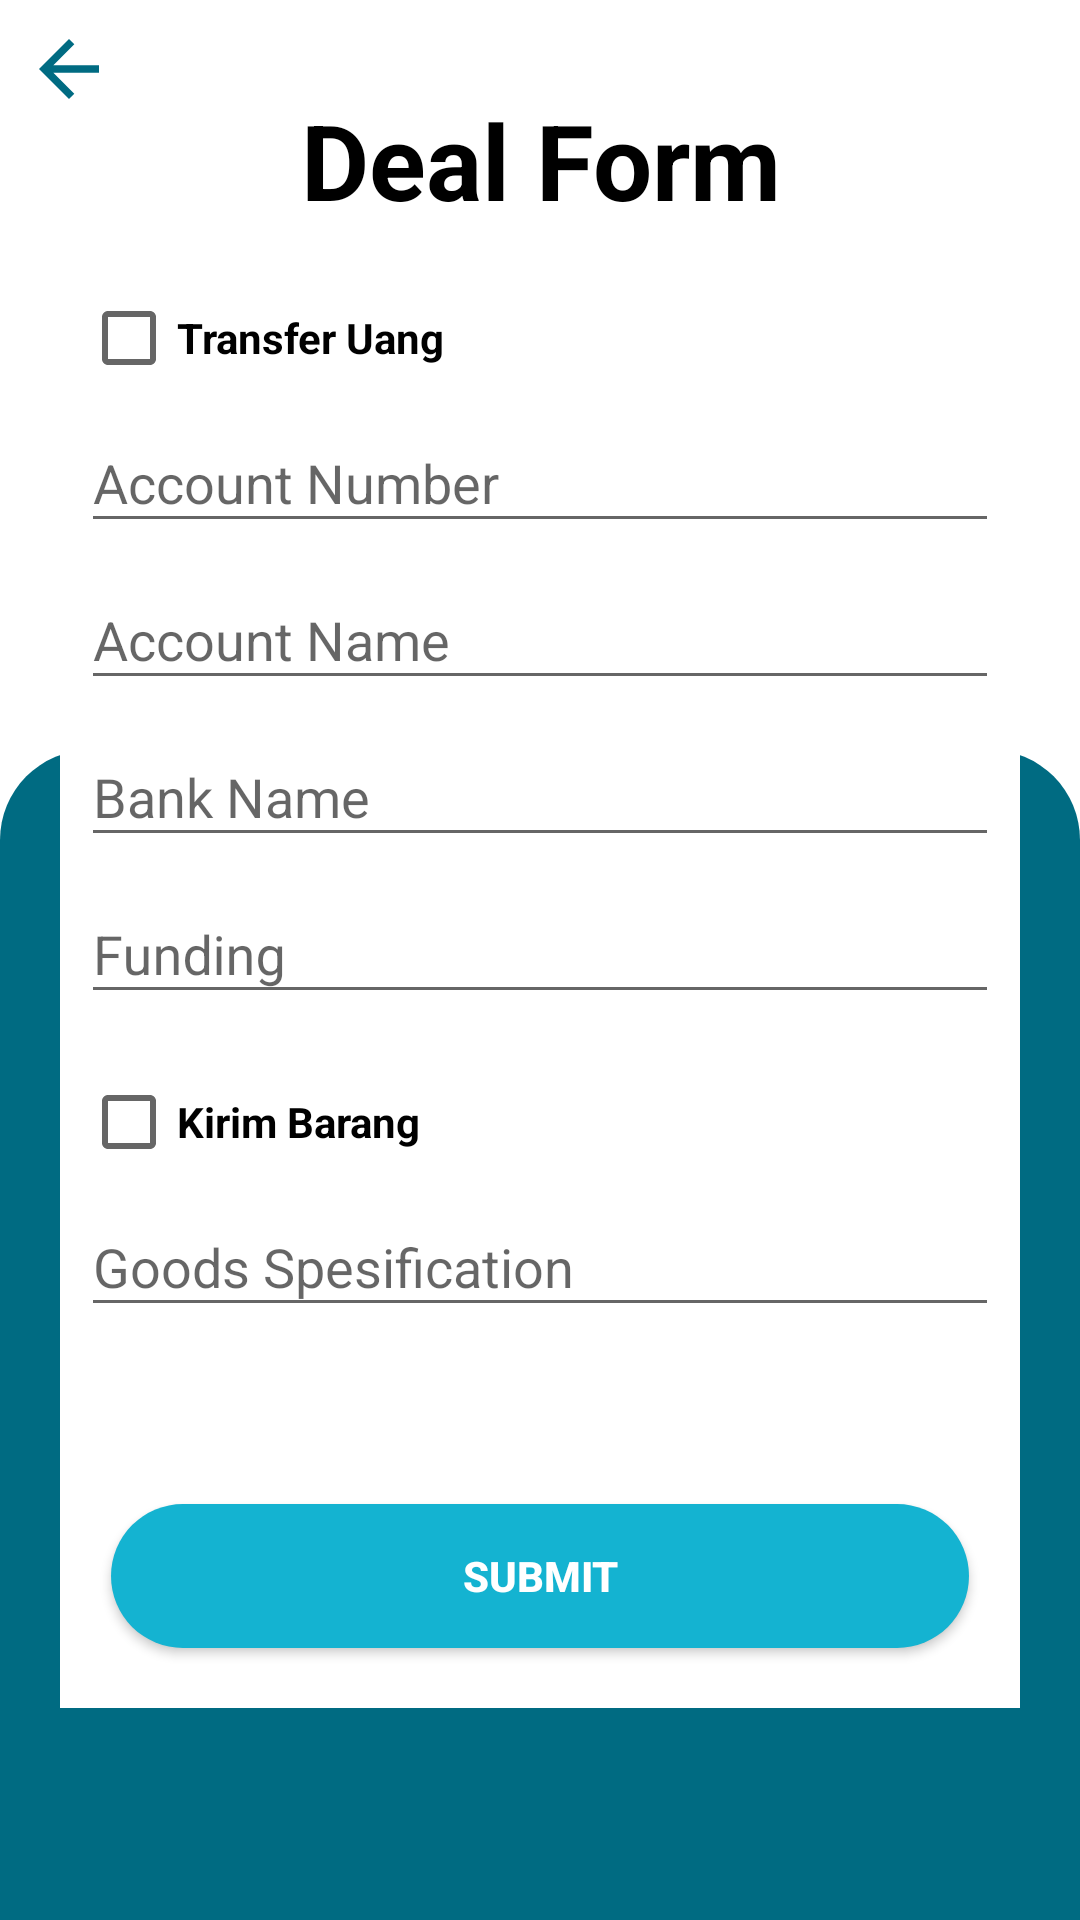

Screen size 1080 x 1920. Icon name, then its box in pixels as Rect(x1, y1, x2, y2):
arrow back: Rect(39, 39, 99, 99)
